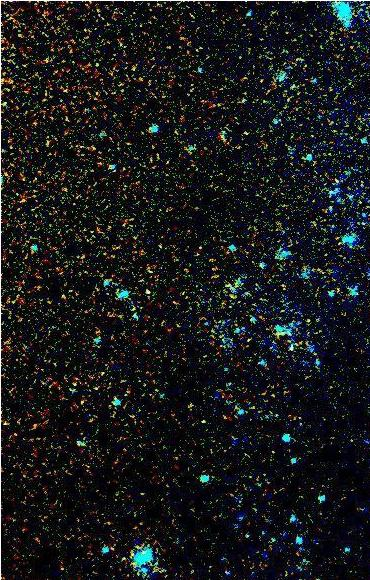star: (188, 409, 218, 439)
